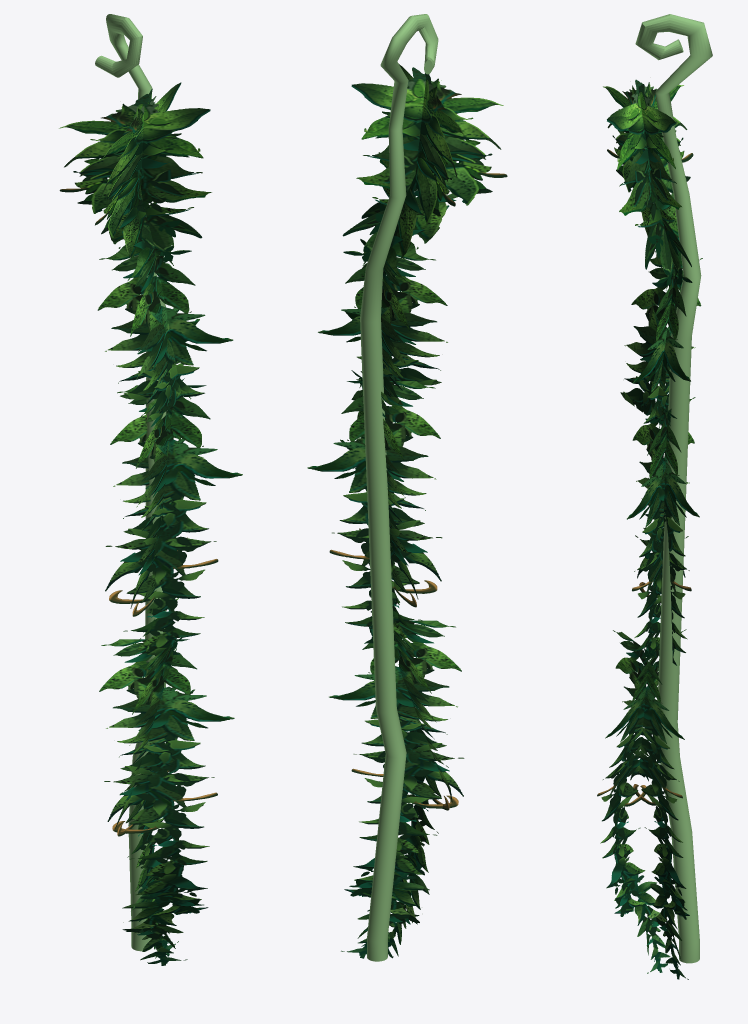
The model's file is vines2-2-3.fbx.
3 views of the same model, side by side, from view 1: azimuth 30°, elevation 25°; view 2: azimuth 150°, elevation 25°; view 3: azimuth 270°, elevation 25° (orthographic).
Parts seen in each view (by area): view 1: polySurface24; view 2: polySurface24; view 3: polySurface24.
Part boxes in pixels (box(x1,y1,x2,y2)): polySurface24: box(59, 14, 242, 965); polySurface24: box(307, 14, 507, 961); polySurface24: box(597, 14, 712, 979).
Bounding box in the file's own units: 3.16 × 13.81 × 2.07.
